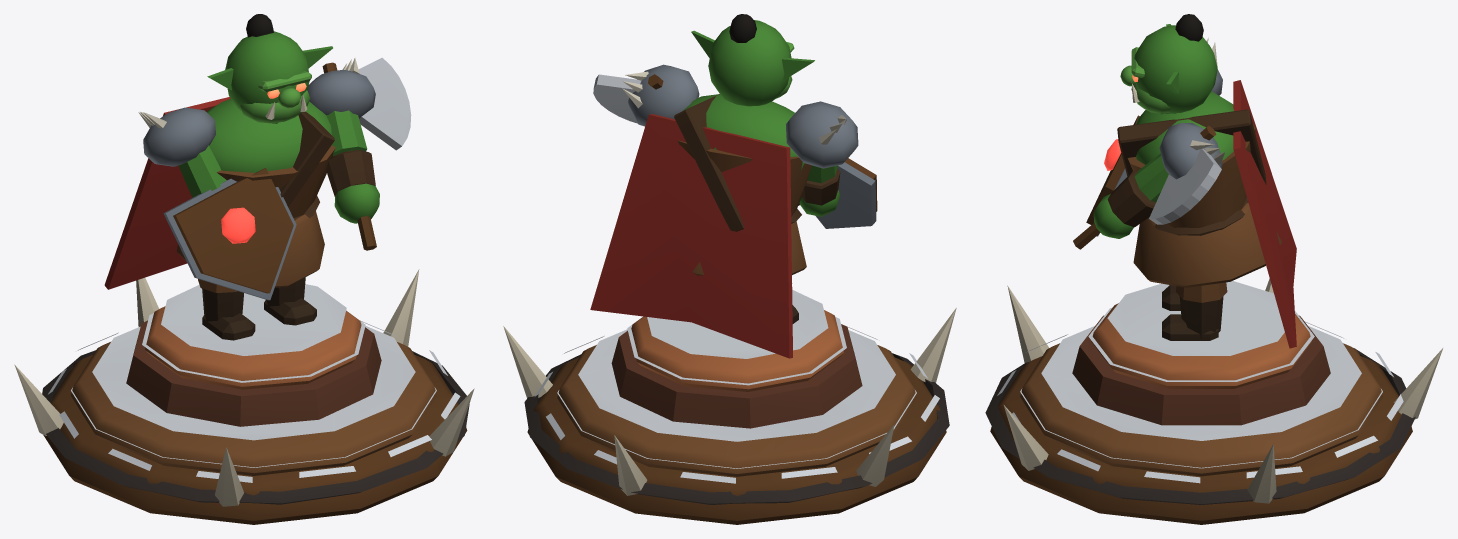
File: horde-7.glb
3 views of the same model, side by side, from view 1: azimuth 30°, elevation 25°; view 2: azimuth 150°, elevation 25°; view 3: azimuth 270°, elevation 25° (orthographic).
Visible parts, largest first — view 1: horde_7_peint, Buste_peint, ArmeG_peint, Crane_peint, BrasD_peint, BrasG_peint, Arme_peint, JambeG_peint, JambeD_peint, Embleme; view 2: horde_7_peint, Buste_peint, Crane_peint, BrasG_peint, BrasD_peint, ArmeG_peint, Arme_peint; view 3: horde_7_peint, Buste_peint, Crane_peint, BrasD_peint, Arme_peint, JambeD_peint, ArmeG_peint.
Boxes of the visible parts, x1,y1,x2,y2 form: horde_7_peint: (14,269,474,524); Buste_peint: (104,97,335,289); ArmeG_peint: (163,168,296,300); Crane_peint: (207,14,332,123); BrasD_peint: (307,57,379,223); BrasG_peint: (138,107,226,197); Arme_peint: (322,57,411,250); JambeG_peint: (198,279,255,340); JambeD_peint: (264,277,316,325); Embleme: (221,207,255,243); horde_7_peint: (503,290,956,524); Buste_peint: (590,94,811,358); Crane_peint: (691,14,814,106); BrasG_peint: (786,101,858,216); BrasD_peint: (622,64,699,126); ArmeG_peint: (815,158,877,228); Arme_peint: (593,74,663,123); horde_7_peint: (985,278,1442,524); Buste_peint: (1117,80,1296,348); Crane_peint: (1120,14,1217,113); BrasD_peint: (1093,123,1225,238); Arme_peint: (1073,125,1221,249); JambeD_peint: (1162,282,1227,340); ArmeG_peint: (1086,115,1139,236).
Size of the model in its own units: 0.9055 by 0.9201 by 0.9023.
